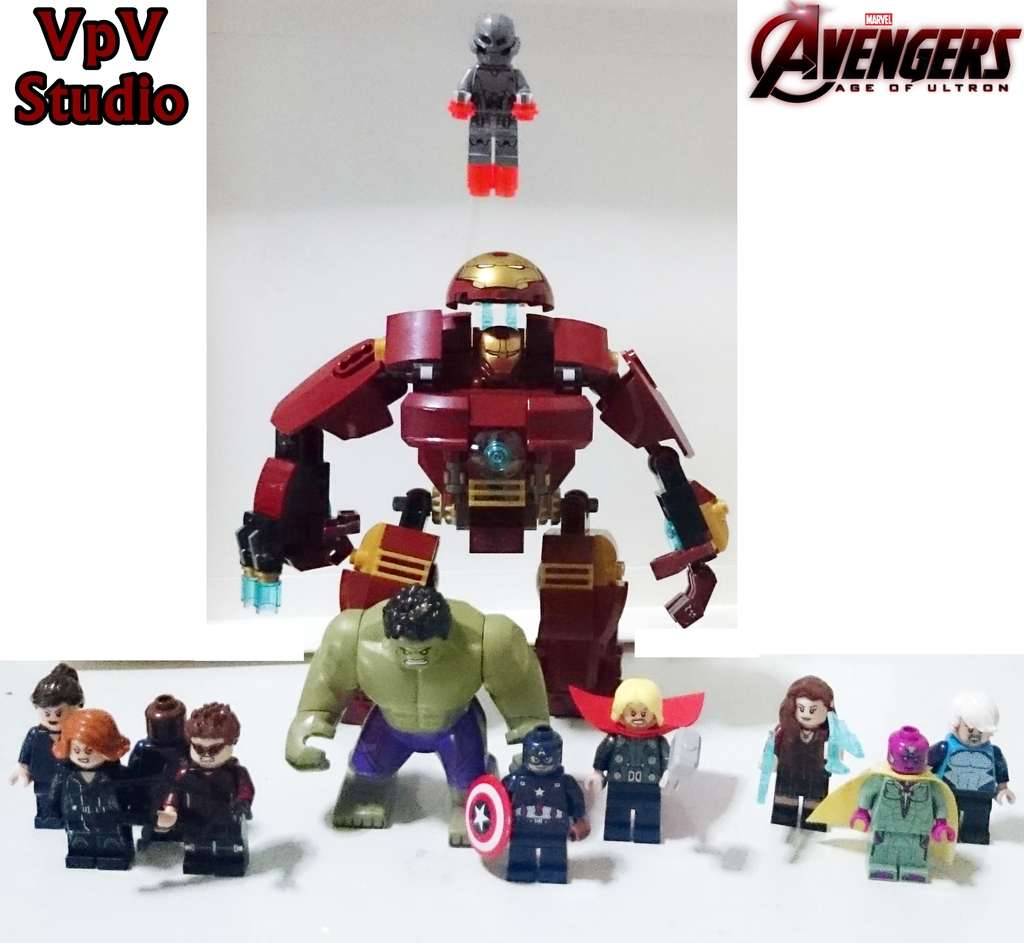Person: (7, 584, 1018, 884)
